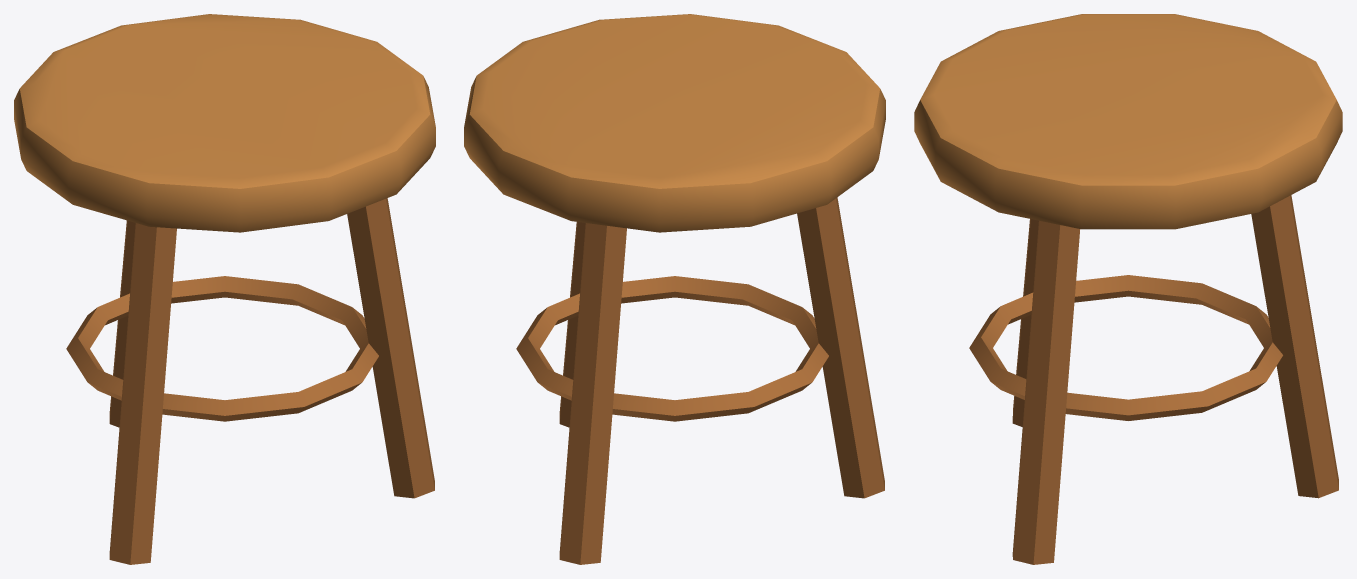
Rendered from Stool.fbx.
3 views of the same model, side by side, from view 1: azimuth 30°, elevation 25°; view 2: azimuth 150°, elevation 25°; view 3: azimuth 270°, elevation 25° (orthographic).
Visible parts, largest first — view 1: Stool; view 2: Stool; view 3: Stool.
Boxes of the visible parts, bbox=[...] form: Stool: bbox=[14, 14, 435, 564]; Stool: bbox=[464, 14, 885, 564]; Stool: bbox=[914, 14, 1342, 564].
Bounding box in the file's own units: 1.75 × 1.84 × 1.8.
Materials: 1 (1 with a texture image).
